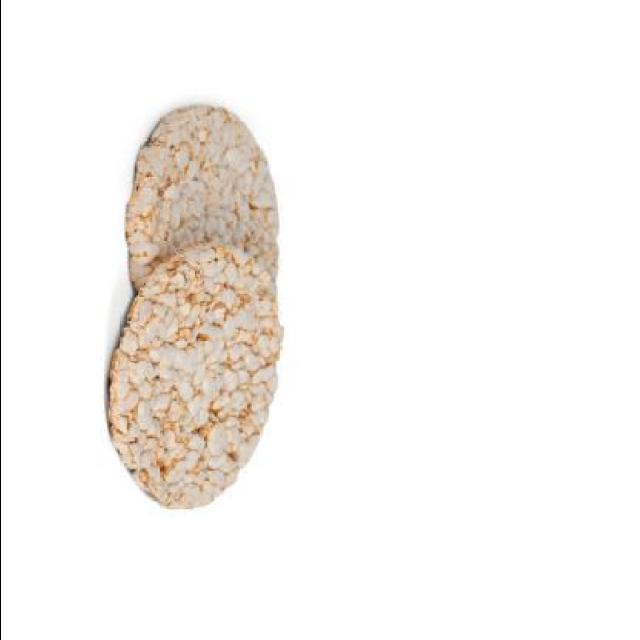Gallette di riso packaged: (109, 103, 283, 514)
